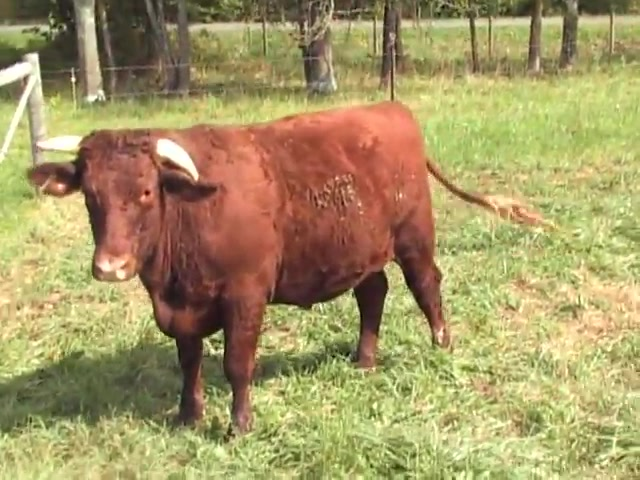cow: (27, 102, 546, 438)
